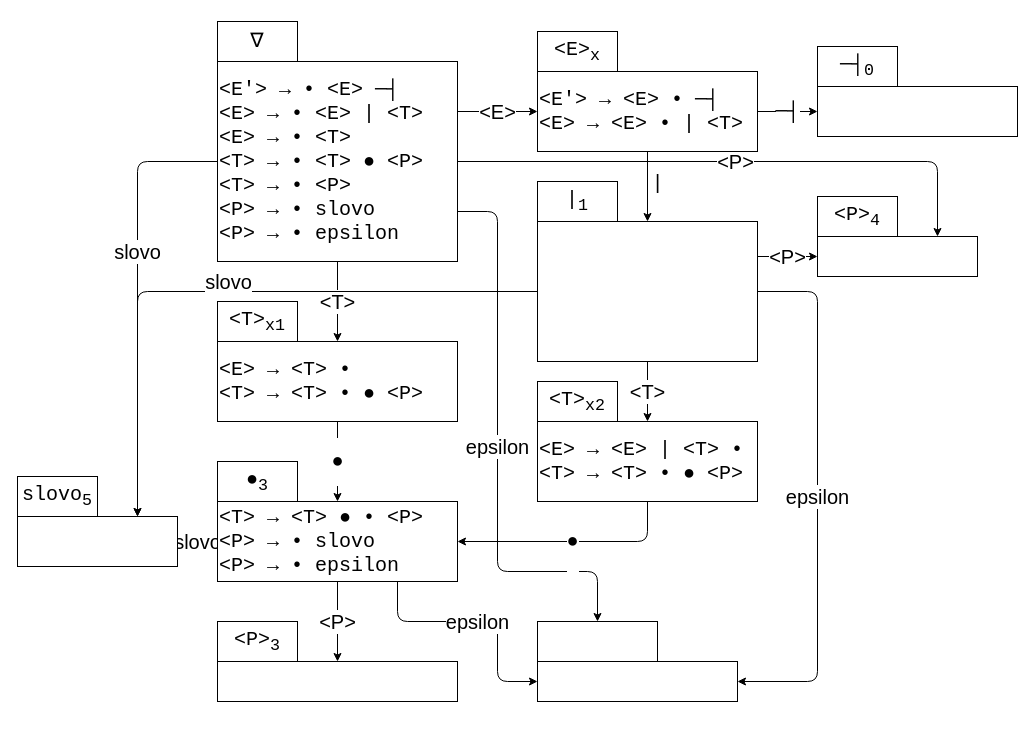
The diagram is 1035 pixels wide and 730 high, and some of its shapes have lost their labels. Each missing label, with the box of its shape:
<E'> → <E> ─┤ •: (816, 86, 1018, 136)
<E> → <E> | • <T> <T> → • <T> ● <P> <T> → • <P> <P> → • slovo <P> → • epsilon: (536, 220, 758, 362)
<P> → epsilon •: (536, 660, 738, 702)
<P> → slovo •: (16, 516, 178, 566)
<T> → <P> •: (816, 236, 978, 276)
<T> → <T> ● <P> •: (216, 660, 458, 702)
epsilon 6: (536, 620, 658, 662)
